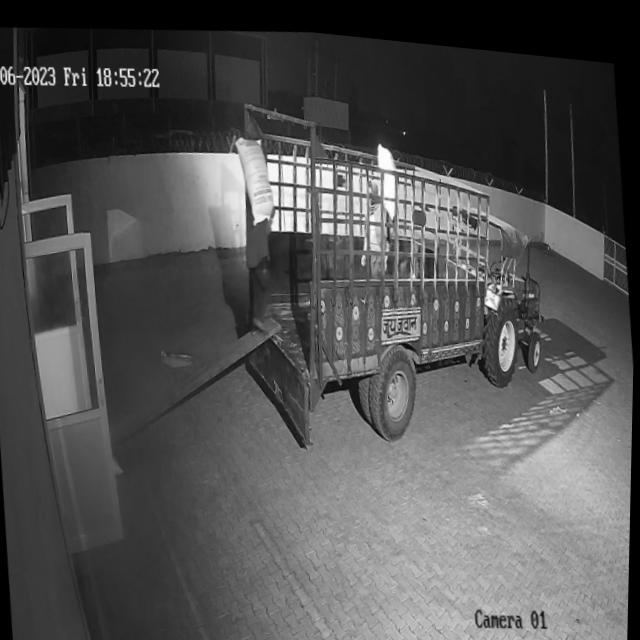sack: (234, 128, 276, 221)
